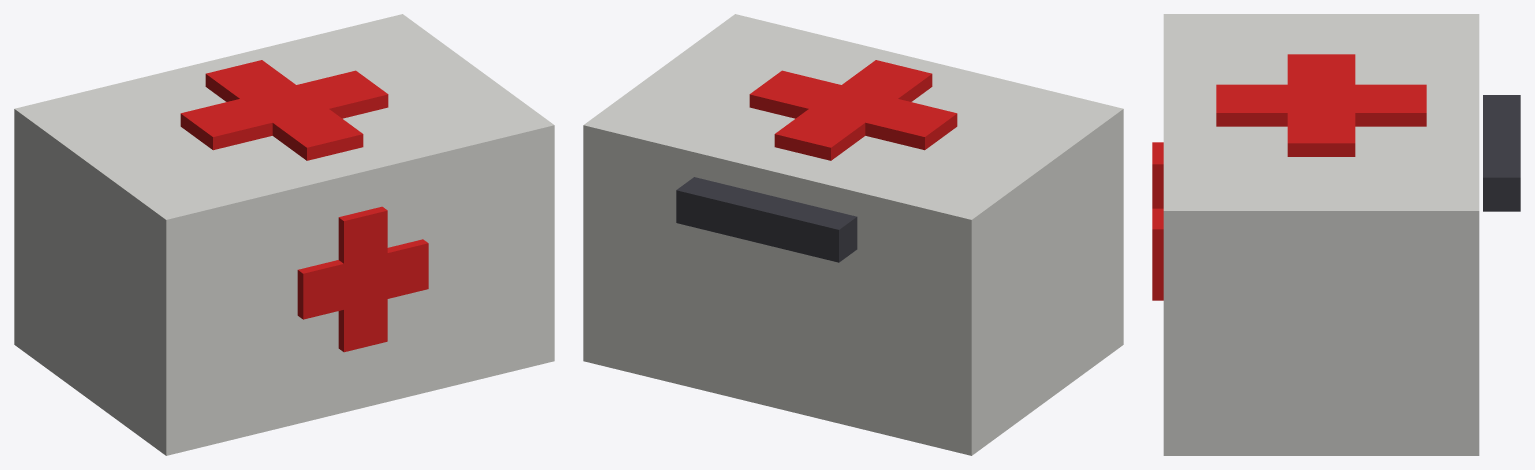
Rendered from loot_medkit.glb.
3 views of the same model, side by side, from view 1: azimuth 30°, elevation 25°; view 2: azimuth 150°, elevation 25°; view 3: azimuth 270°, elevation 25° (orthographic). The views are drawn at different scales.
Parts seen in each view (by area): view 1: Medkit; view 2: Medkit; view 3: Medkit.
Boxes of the visible parts, <box> form: Medkit: <box>14,14,554,455</box>; Medkit: <box>583,14,1123,455</box>; Medkit: <box>1152,14,1520,455</box>.
Size of the model in its own units: 0.62 by 0.38 by 0.49.
